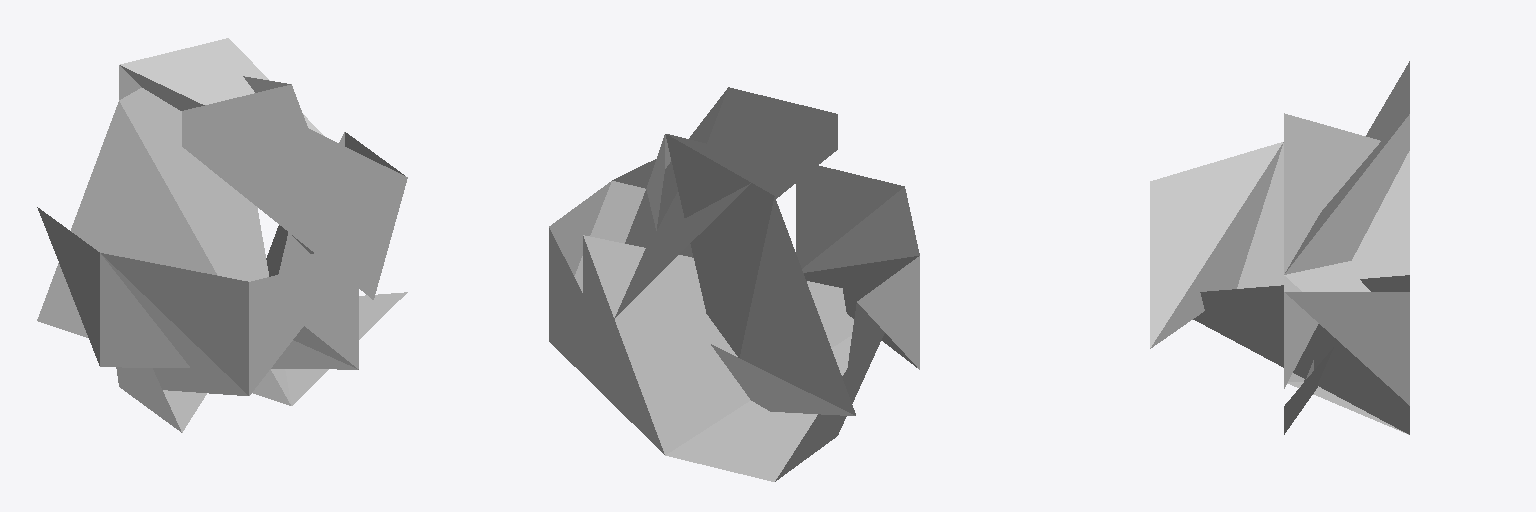
Rendered from blockc.obj.
The picture shows the model from 3 angles: view 1: azimuth 30°, elevation 25°; view 2: azimuth 150°, elevation 25°; view 3: azimuth 270°, elevation 25°; orthographic projection.
Parts seen in each view (by area): view 1: Mesh1 Model; view 2: Mesh1 Model; view 3: Mesh1 Model.
Part boxes in pixels (x1,y1,x2,y2): Mesh1 Model: (37, 38, 407, 432); Mesh1 Model: (549, 87, 919, 481); Mesh1 Model: (1150, 61, 1409, 434).
Size of the model in its own units: 45 by 45 by 33.